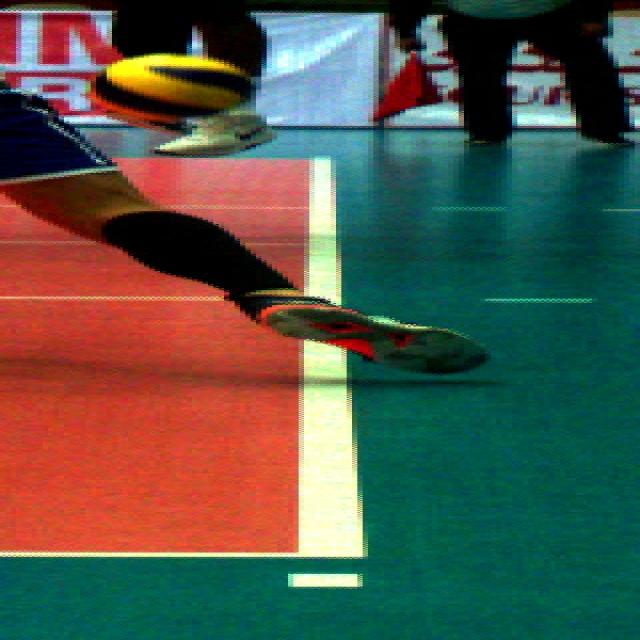Volleyball: (85, 55, 254, 120)
